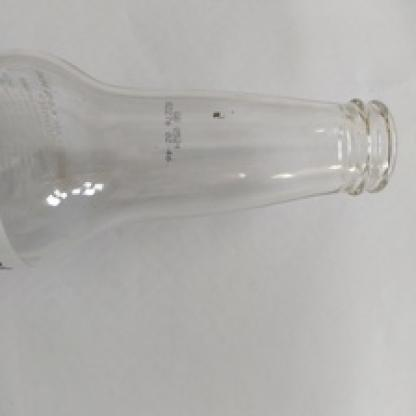Can: (0, 37, 407, 291)
